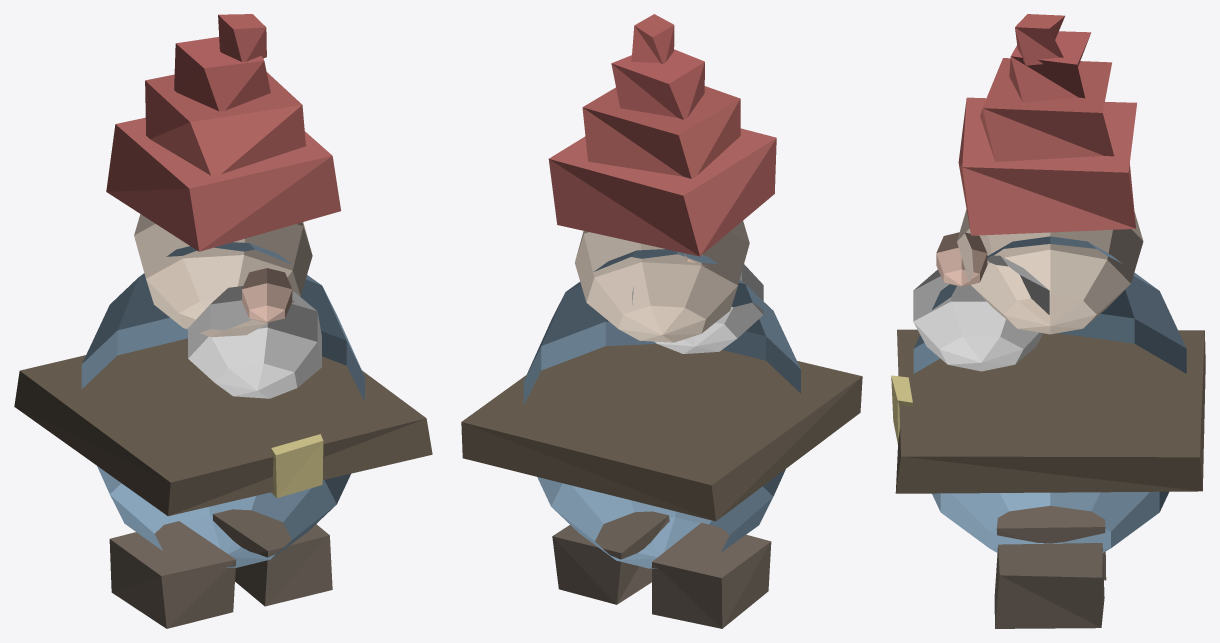
File: gnome.glb
The picture shows the model from 3 angles, left to right: view 1: azimuth 30°, elevation 25°; view 2: azimuth 150°, elevation 25°; view 3: azimuth 270°, elevation 25°; orthographic projection. The views are drawn at different scales.
Visible parts, largest first — view 1: body; view 2: body; view 3: body.
Boxes of the visible parts, <box> form: body: <box>14,14,432,628</box>; body: <box>461,14,862,628</box>; body: <box>891,14,1205,628</box>.
Size of the model in its own units: 0.6279 by 1.29 by 0.6405.
